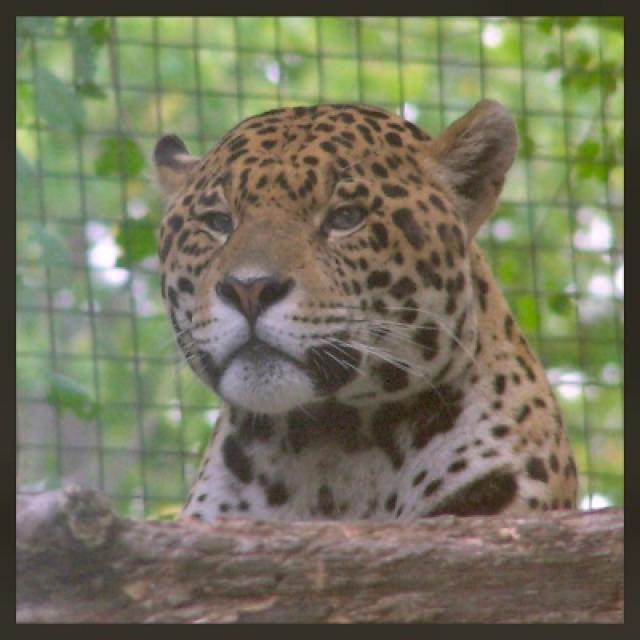Jaguar: (150, 99, 581, 528)
